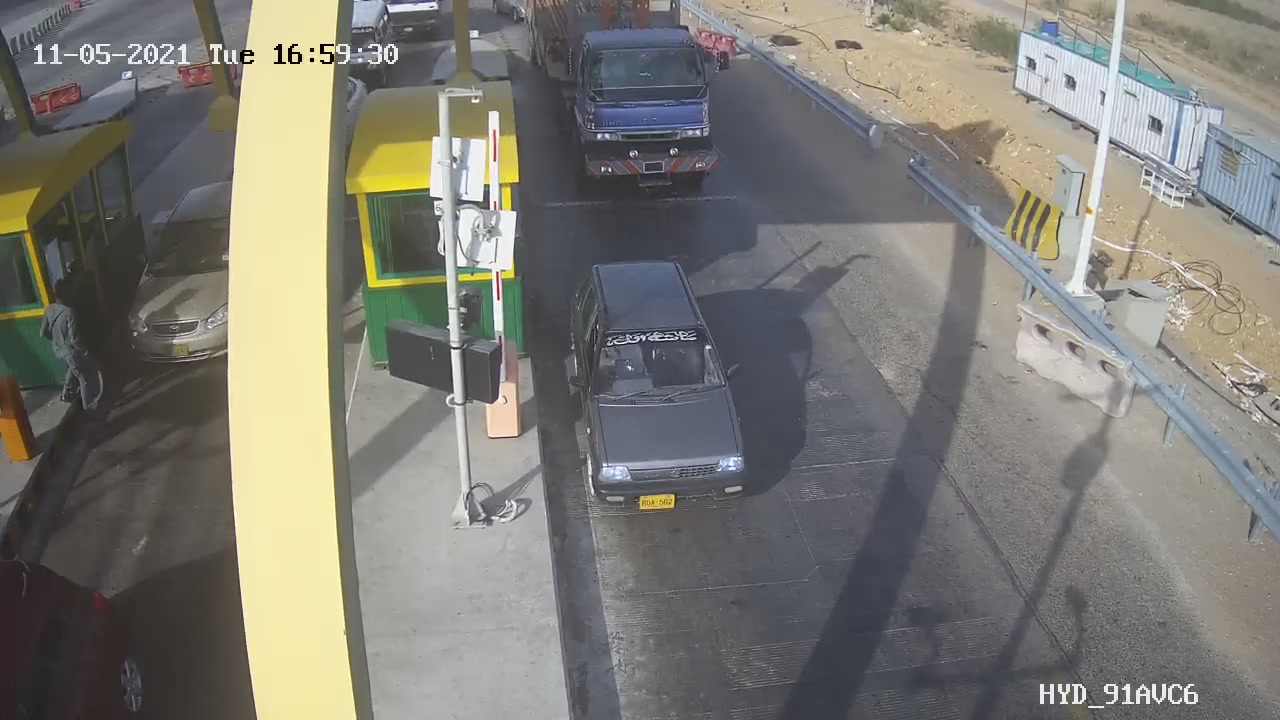F1: (547, 243, 770, 540)
